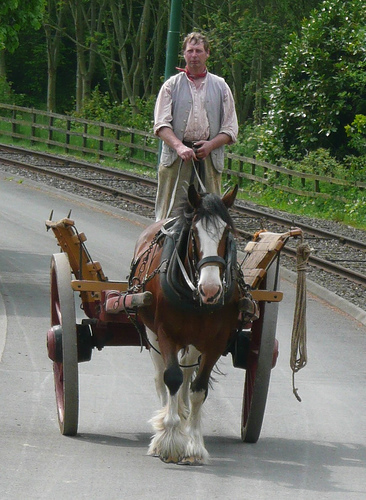horse: (128, 178, 245, 466)
